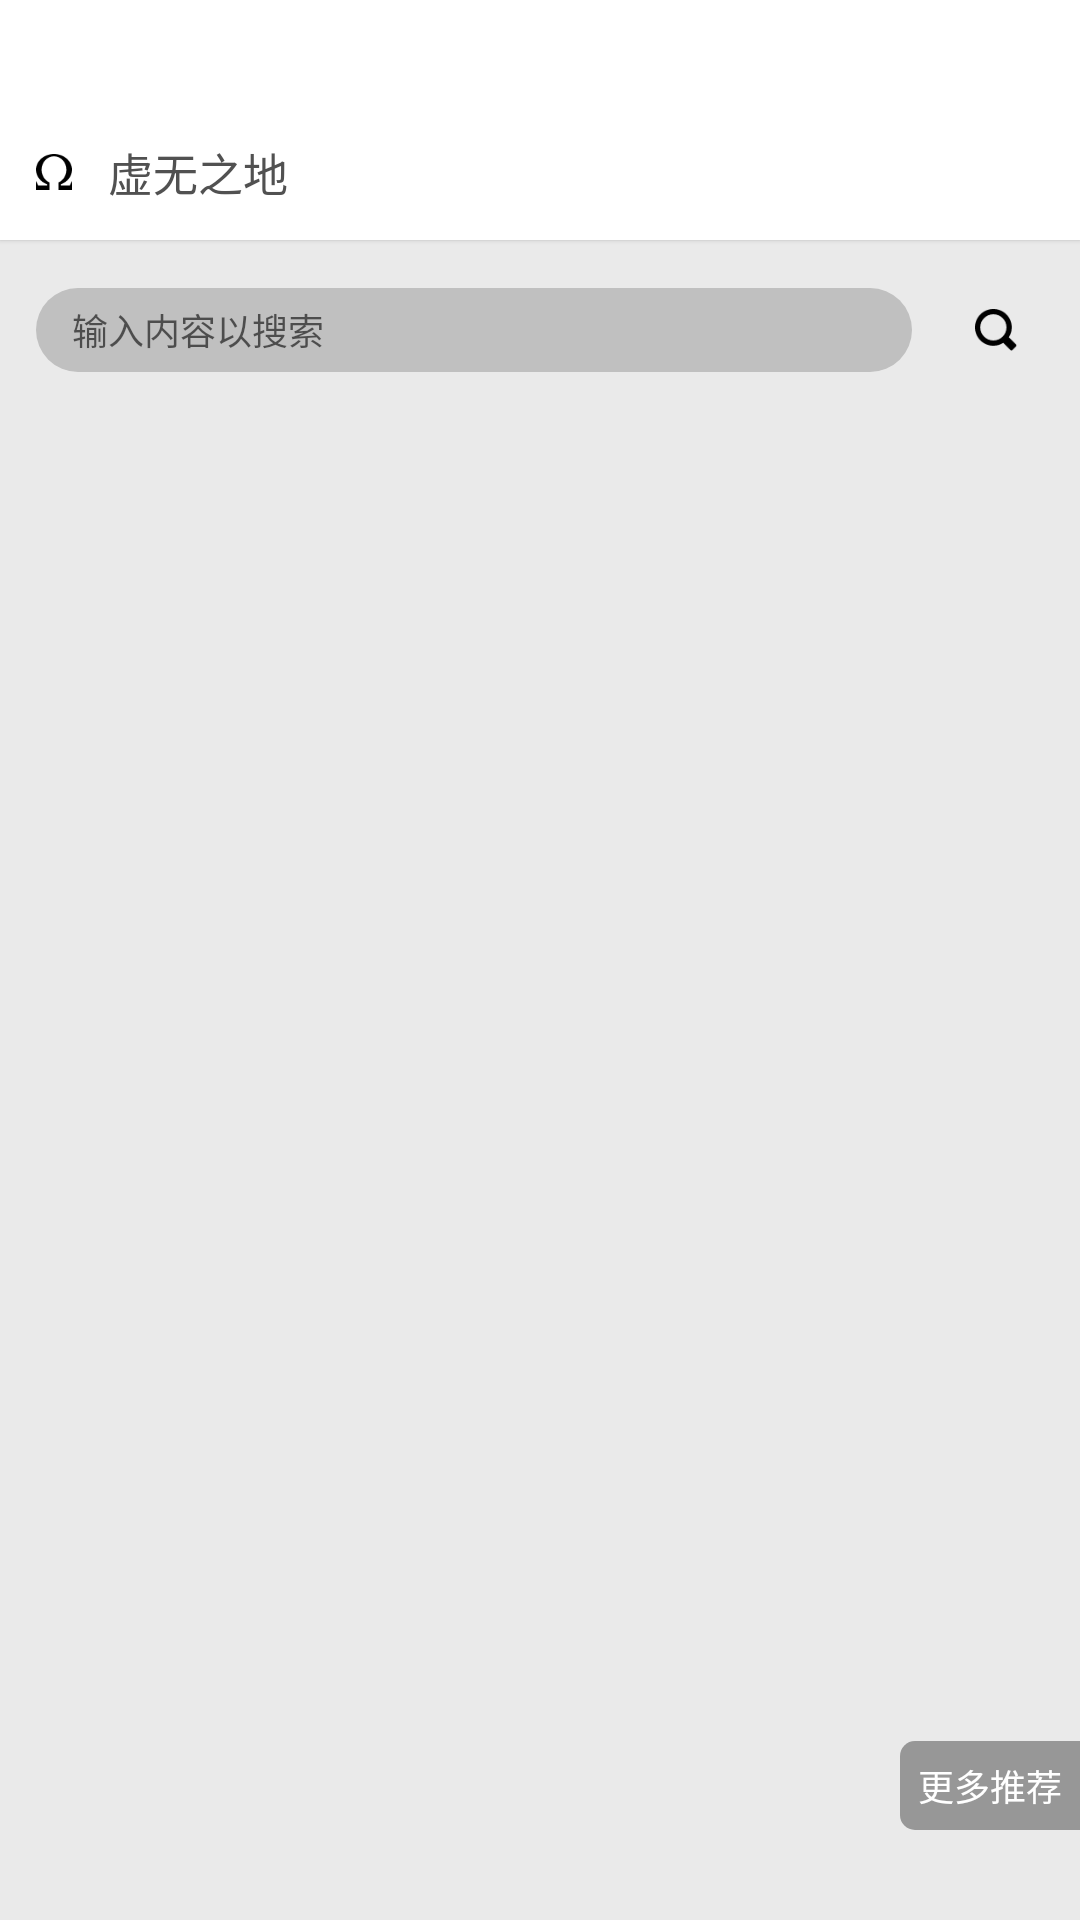

Screen size 1080x1920. Icon name, then its box in pixels as bbox(x1, y1, x2, y2):
search: bbox(975, 309, 1017, 351)
special: bbox(36, 154, 72, 190)
